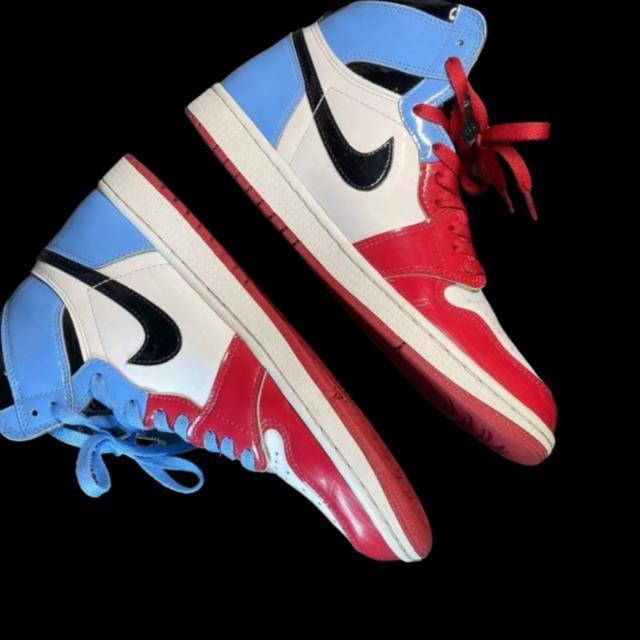nike original jordan 1: (158, 0, 640, 515), (0, 139, 457, 640)
